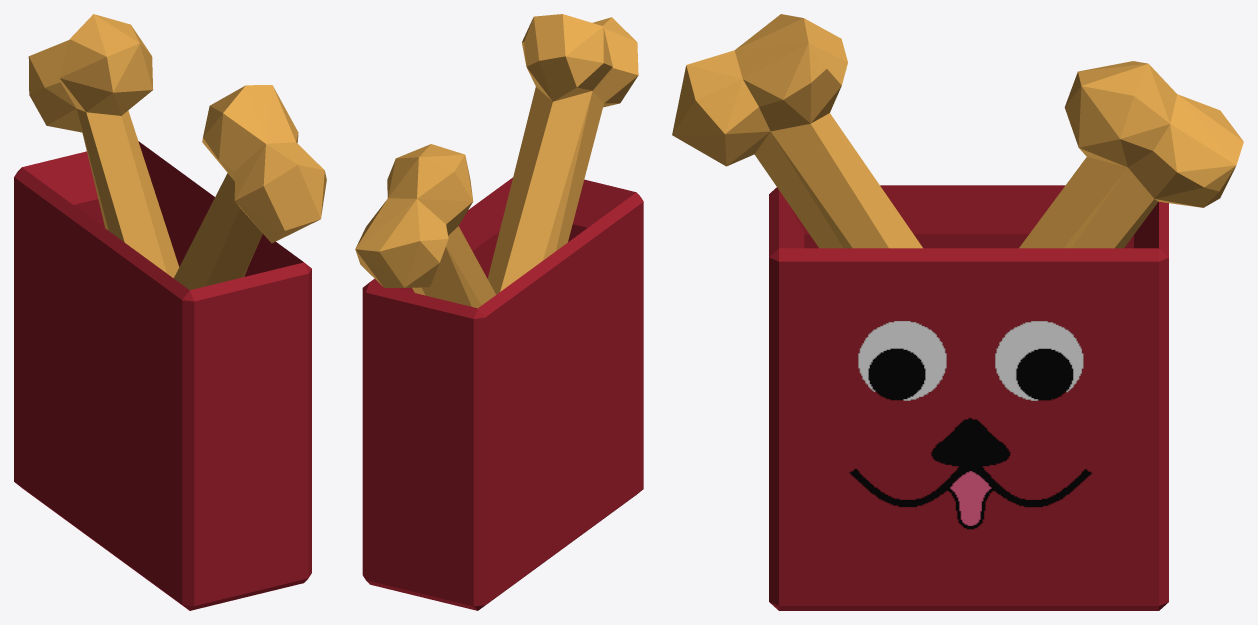
Rendered from dog_snack_box.fbx.
The picture shows the model from 3 angles, left to right: view 1: azimuth 30°, elevation 25°; view 2: azimuth 150°, elevation 25°; view 3: azimuth 270°, elevation 25°; orthographic projection. The views are drawn at different scales.
Parts seen in each view (by area): view 1: fog_snack_box; view 2: fog_snack_box; view 3: fog_snack_box.
Boxes of the visible parts, <box> form: fog_snack_box: <box>14,14,326,610</box>; fog_snack_box: <box>355,14,643,610</box>; fog_snack_box: <box>672,14,1243,610</box>.
Size of the model in its own units: 84.66 by 313 by 286.
